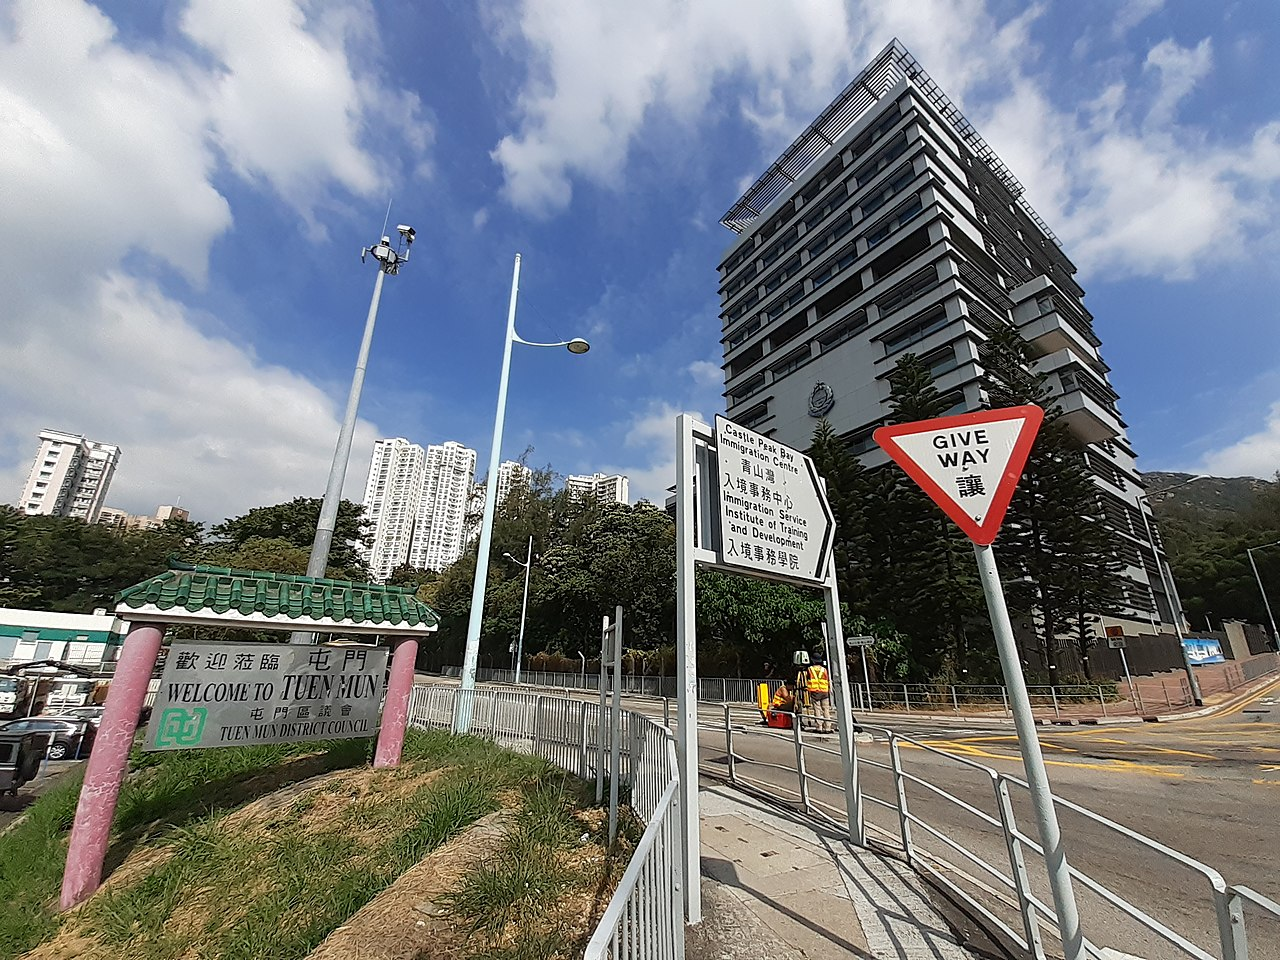Give Way: (872, 402, 1049, 552)
